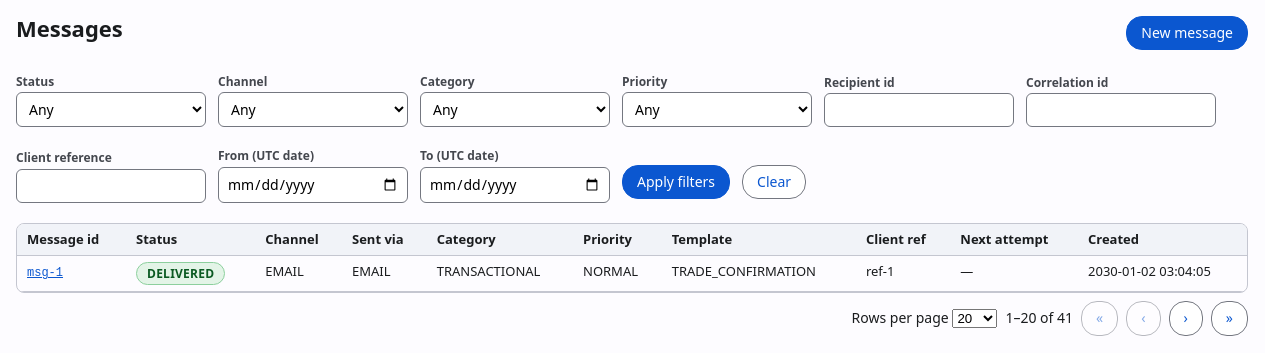
Test: message list page › paginates and shows the total
The image size is (1265, 353).
Expected: the link "msg-1" is shown, [27,266,63,280]
Expected: the message with test id "pager-range" reads "1–20 of 41", [1005,308,1073,328]
Click the button named "Next page": {"x": 1186, "y": 318} [1168,301,1203,336]
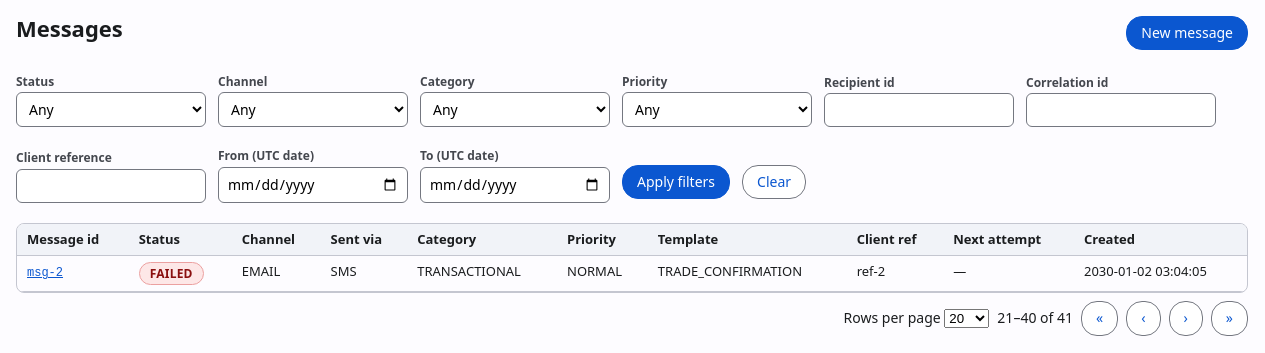
Expected: the link "msg-2" is shown, [27,266,63,280]
Expected: the message with test id "pager-range" reads "21–40 of 41", [997,308,1073,328]
